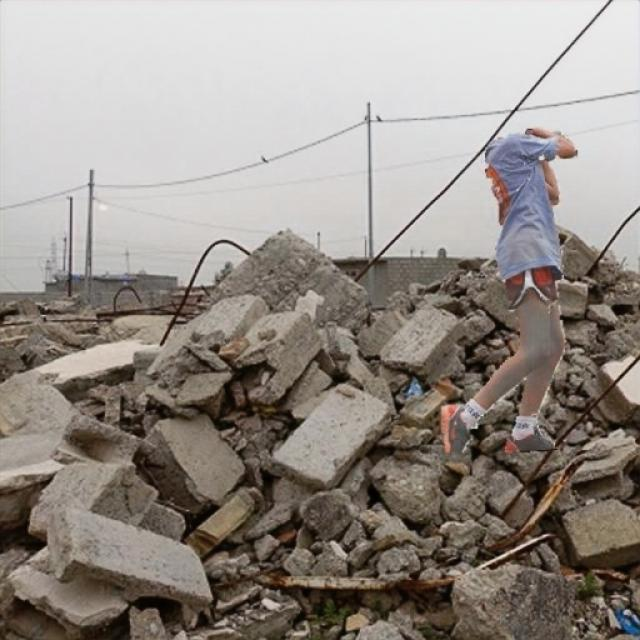Person in Rubble: (442, 128, 576, 452)
